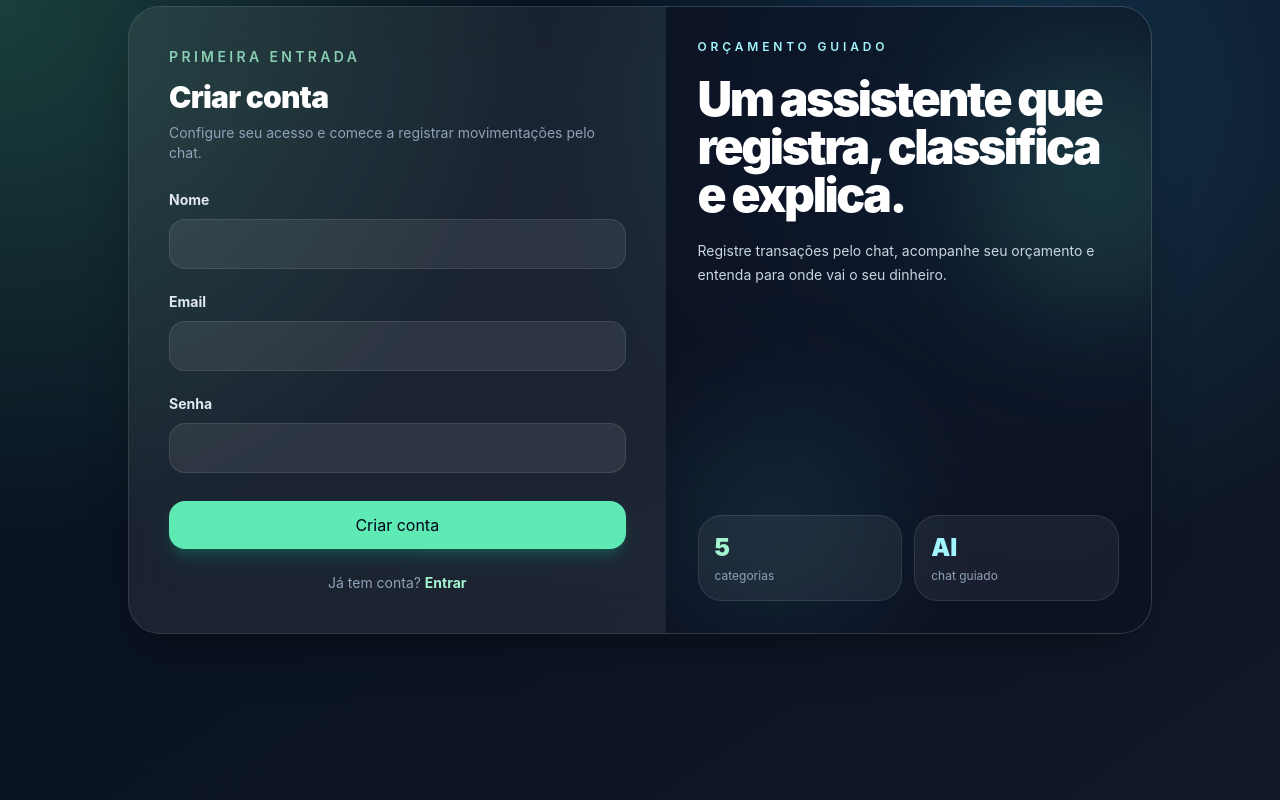
it: Register › submit com email duplicado exibe mensagem exata sem navegar
The width and height of the screenshot is (1280, 800).
In the field labelled "Nome": coordinates (397, 244) [169, 219, 626, 269], type "Ana"
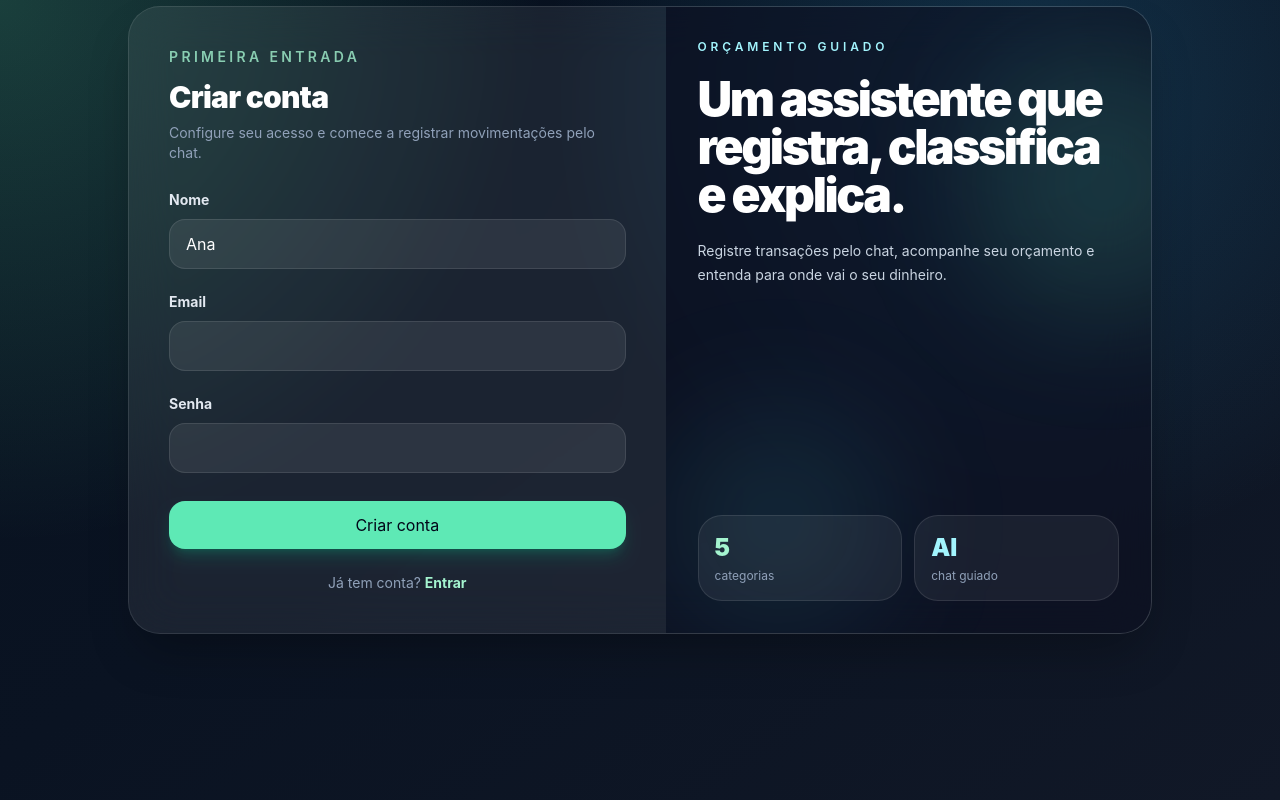
In the field labelled "Email": coordinates (397, 346) [169, 321, 626, 371], type "ana@example.com"
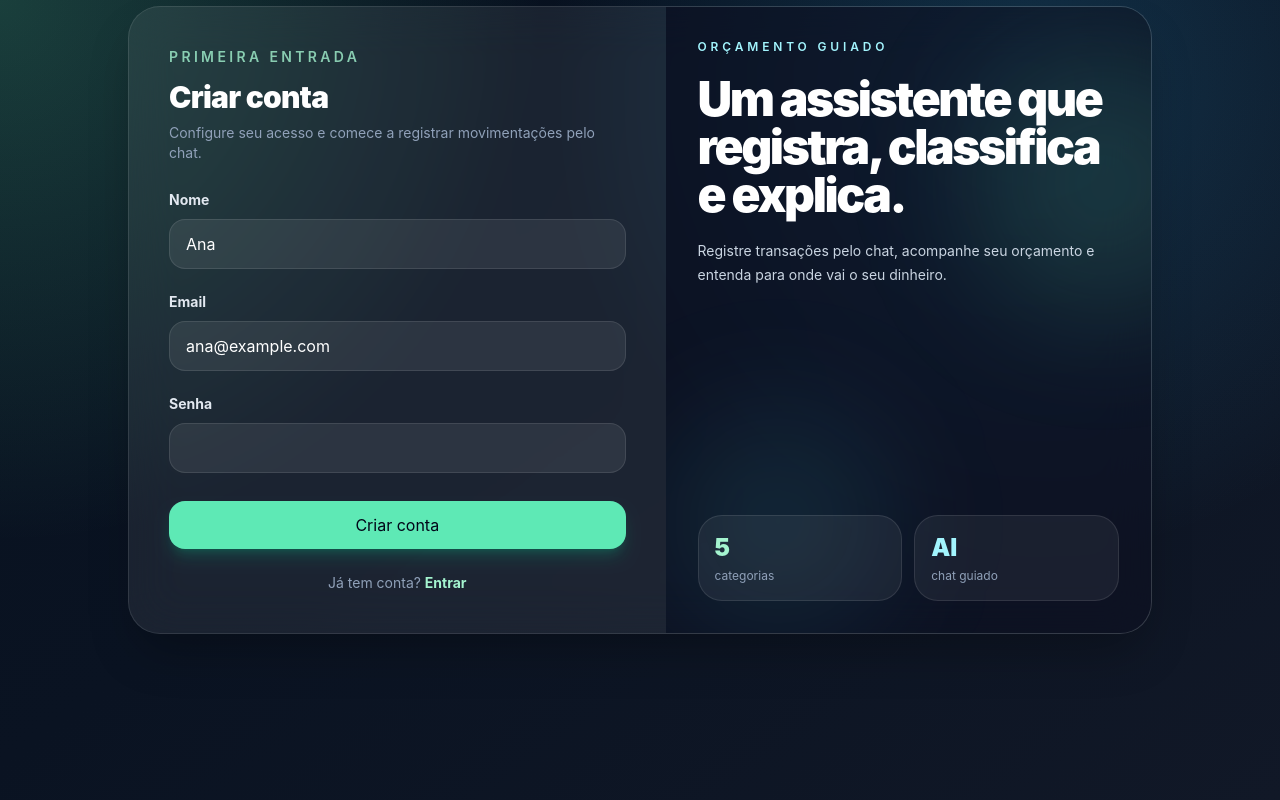
In the password field labelled "Senha": coordinates (397, 448) [169, 423, 626, 473], type "password123"
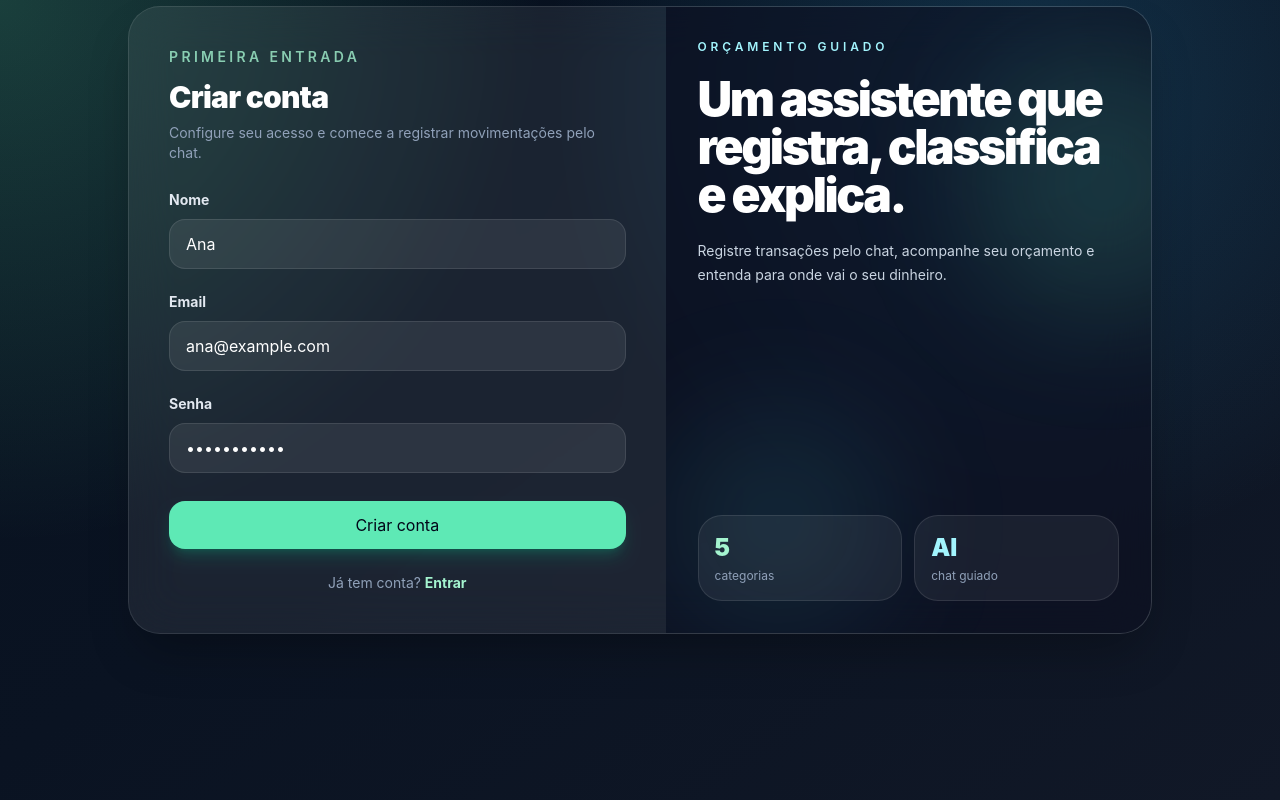
Click the button "Criar conta": coordinates (397, 525) [169, 501, 626, 549]
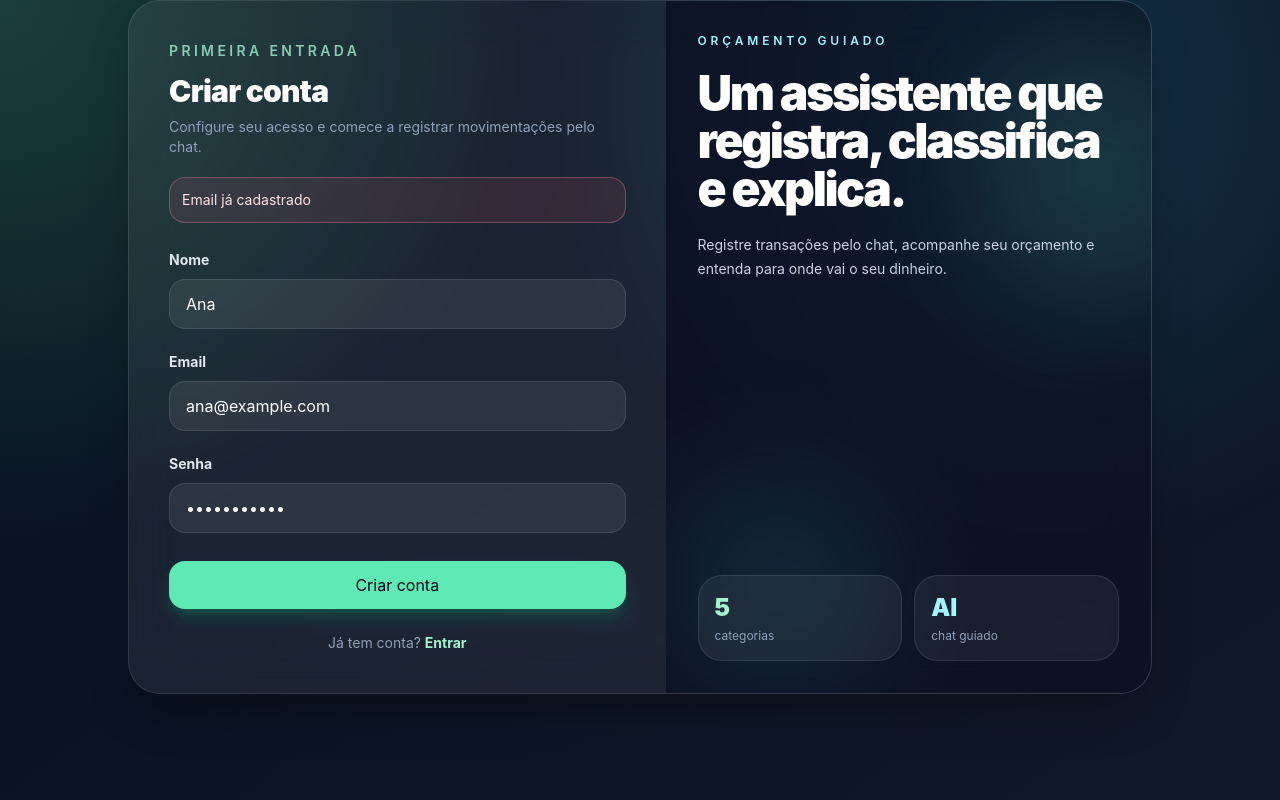
Now the text "Email já cadastrado" is shown, box [169, 177, 626, 223]
